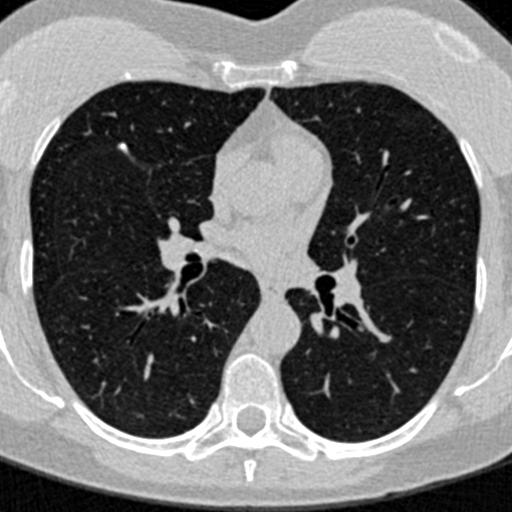nodule: (117, 141, 129, 153)
